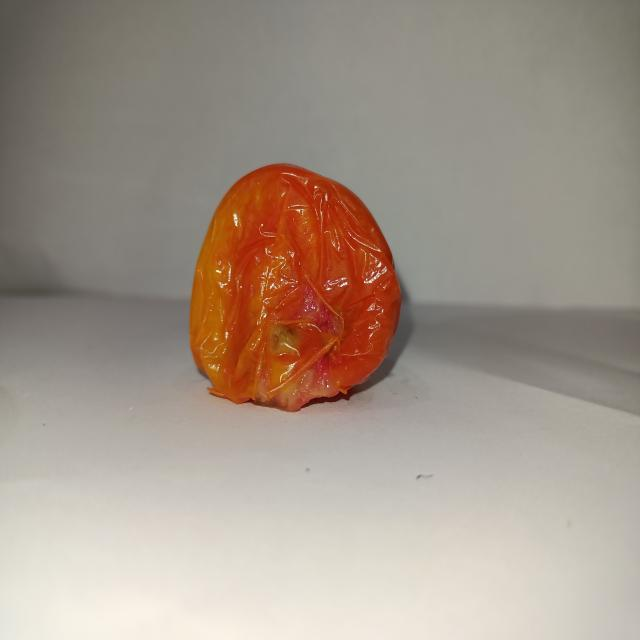Red: (188, 161, 402, 412)
